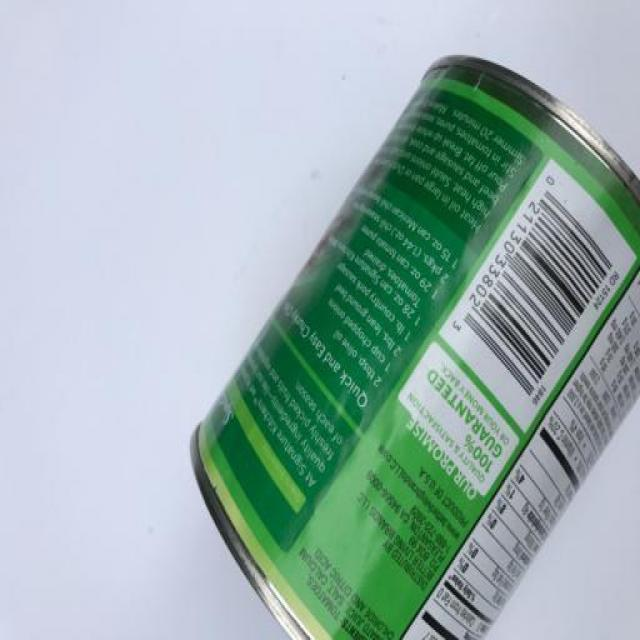metel: (185, 22, 640, 640)
